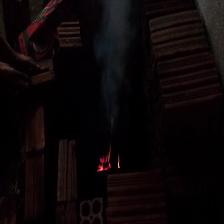fire: (98, 151, 123, 171)
smoke: (97, 0, 135, 127)
